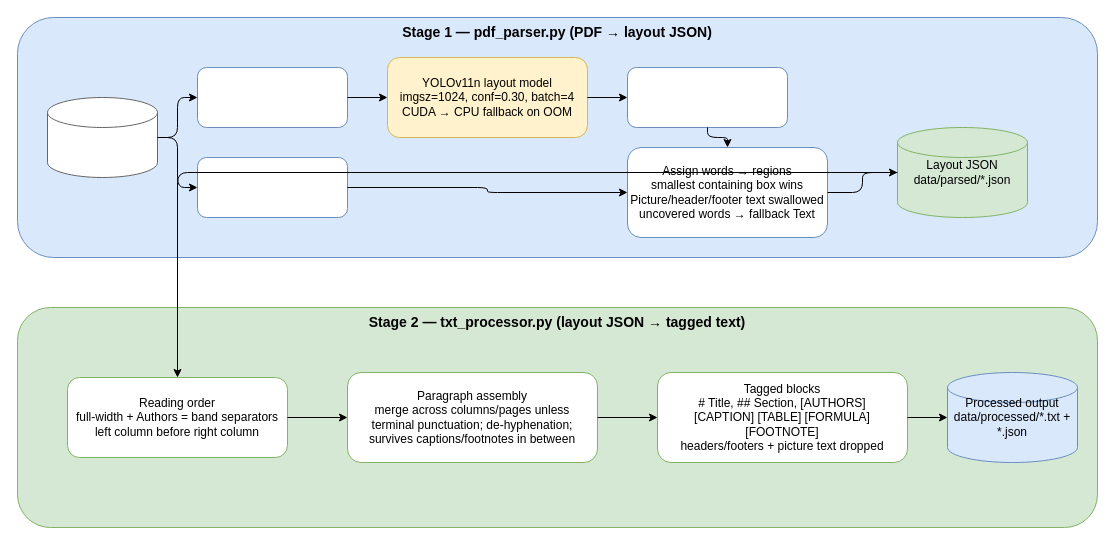
Some shapes in this 1115 by 545 pixel diagram are drawn without their labels. Each missing label, with the centre of its shape:
"Extract words page.get_text('words')" goes at (x=272, y=187).
"Map boxes to PDF points scale = 72 / DPI" goes at (x=707, y=97).
"PDF data/raw_pdfs/" goes at (x=102, y=137).
"Render pages PyMuPDF @ 150 DPI" goes at (x=272, y=97).
